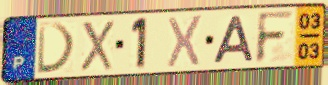1: (129, 15, 151, 72)
A: (211, 14, 257, 66)
D: (36, 21, 79, 76)
F: (253, 8, 296, 65)
X: (165, 13, 205, 69), (79, 19, 116, 73)
